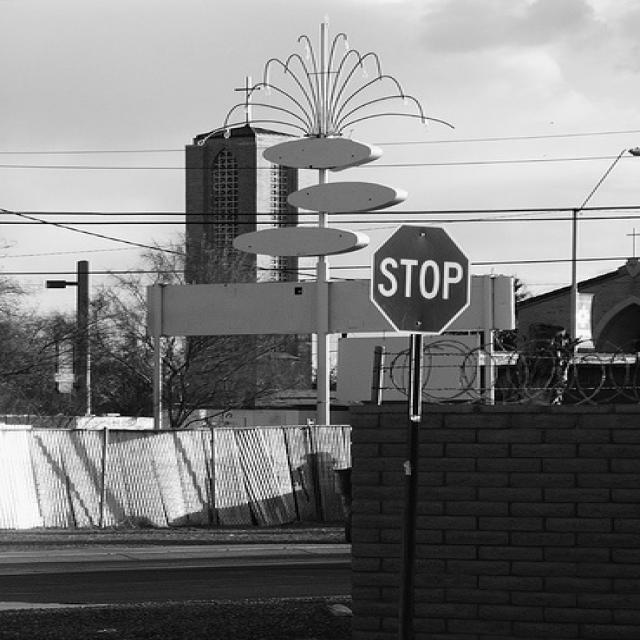pole: (390, 336, 423, 630), (307, 163, 331, 425), (71, 256, 97, 412), (146, 280, 170, 428)
